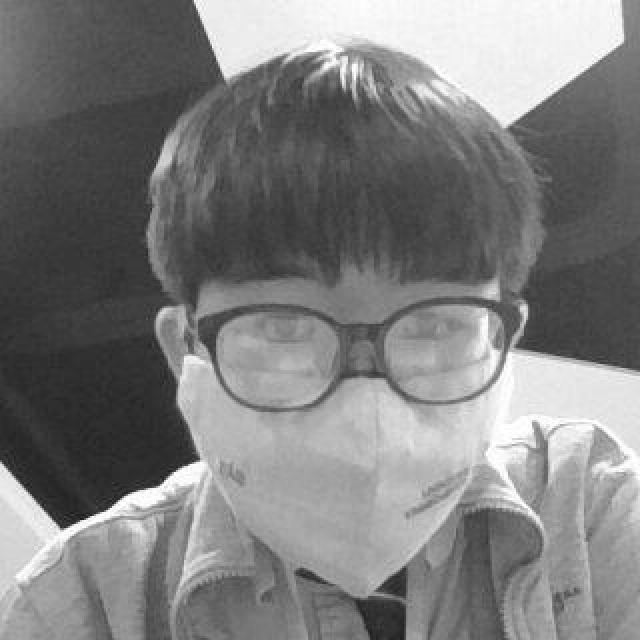Focused: (148, 33, 542, 583)
